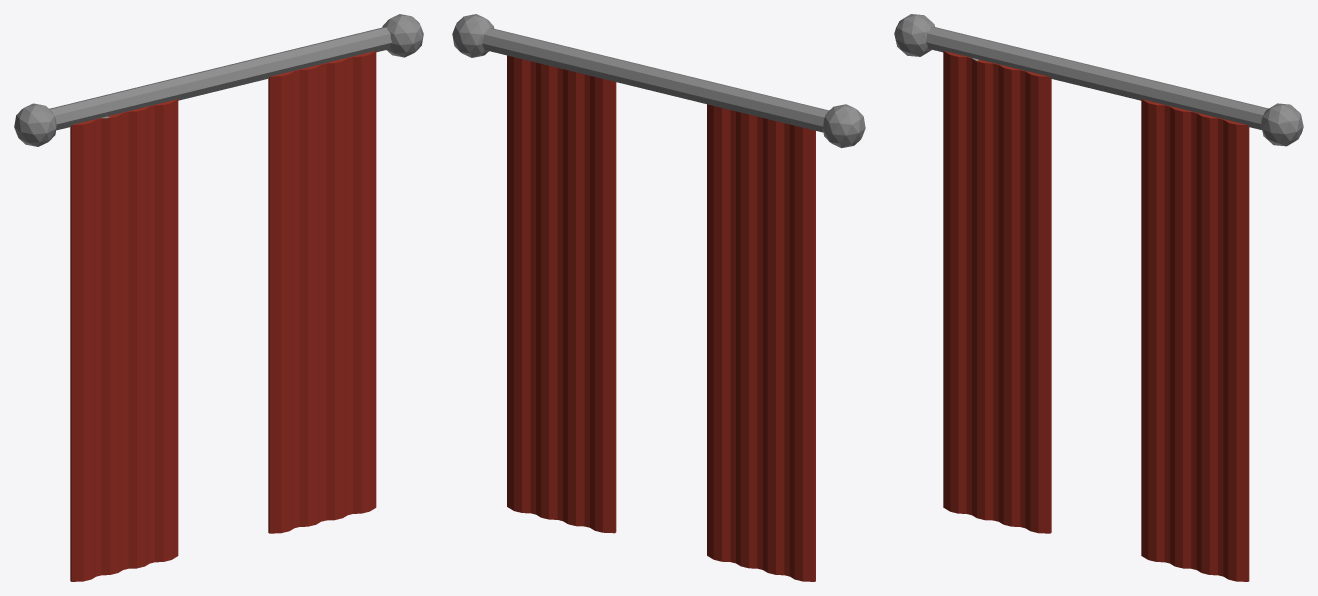
File: curtain.gltf
The picture shows the model from 3 angles, left to right: view 1: azimuth 30°, elevation 25°; view 2: azimuth 150°, elevation 25°; view 3: azimuth 330°, elevation 25°; orthographic projection.
Visible parts, largest first — view 1: Curtains; view 2: Curtains; view 3: Curtains.
Boxes of the visible parts, box(x1,y1,x2,y2) form: Curtains: box(14, 14, 423, 581); Curtains: box(452, 14, 865, 581); Curtains: box(894, 14, 1303, 581).
Bounding box in the file's own units: 7.4 × 8.45 × 0.7026.
